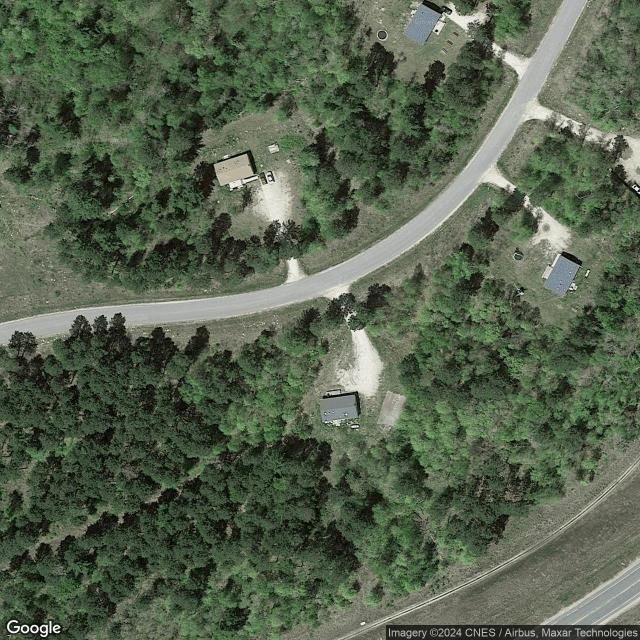Propane: (584, 268, 592, 279), (350, 423, 360, 430)
